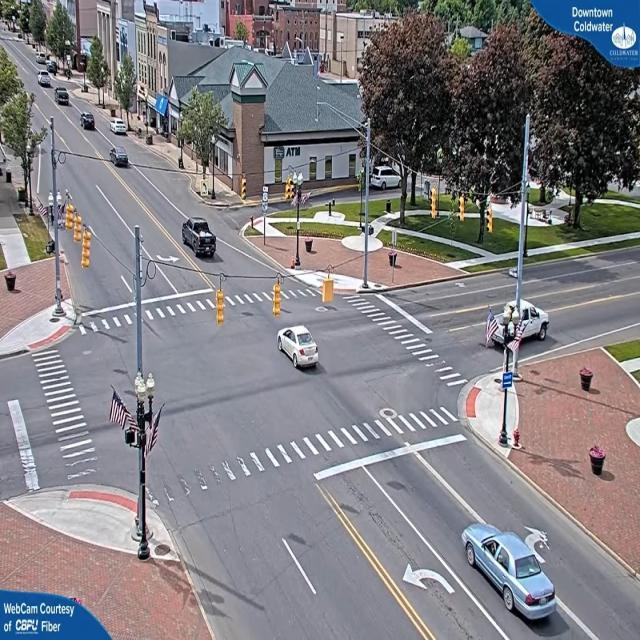car: (465, 526, 557, 626), (278, 326, 322, 368), (180, 219, 218, 261), (518, 298, 548, 343), (112, 150, 133, 169), (112, 120, 130, 138), (80, 114, 96, 132), (40, 73, 54, 89), (56, 89, 69, 106)
